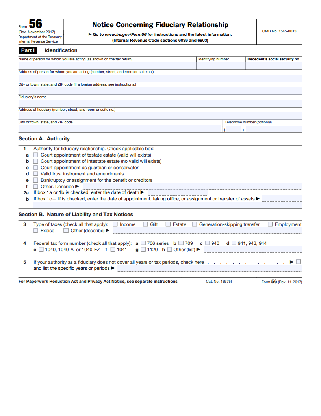checkbox: (32, 158, 39, 164), (32, 164, 39, 170), (32, 177, 39, 183), (142, 221, 149, 227), (191, 221, 198, 227), (267, 221, 274, 227), (178, 240, 185, 246), (38, 246, 45, 252), (166, 246, 173, 252), (295, 259, 302, 265), (112, 221, 118, 227), (231, 240, 237, 246), (140, 240, 146, 246), (140, 246, 146, 252), (110, 246, 116, 252), (32, 152, 39, 157), (32, 171, 39, 176), (32, 184, 39, 189), (32, 228, 39, 233), (62, 228, 69, 233), (164, 221, 171, 226), (204, 240, 211, 245)
textbox: (15, 92, 304, 109), (15, 105, 304, 122), (16, 68, 304, 85), (17, 79, 305, 96), (15, 117, 225, 134), (17, 56, 198, 71), (221, 118, 305, 133), (244, 56, 304, 71), (194, 56, 247, 71)
textline: (81, 182, 304, 191), (31, 203, 305, 209), (111, 229, 303, 235), (116, 267, 304, 273), (204, 248, 305, 254), (145, 191, 210, 197), (260, 194, 304, 202)
